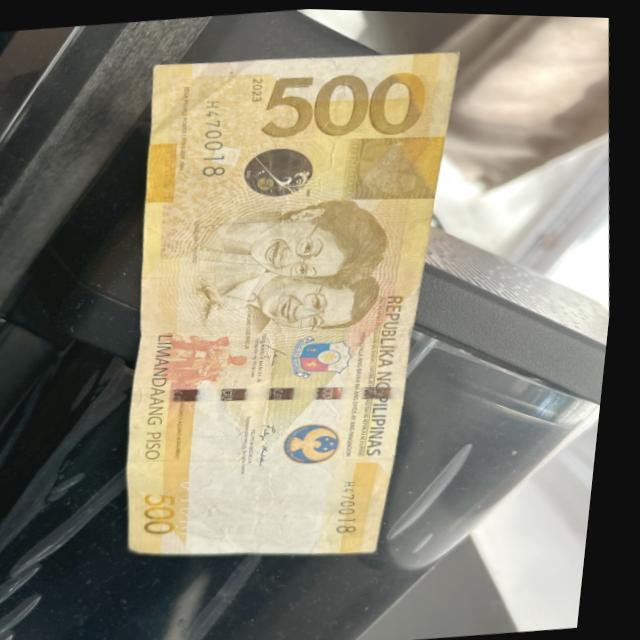concealed_value: (340, 129, 446, 204)
optically_variable_device: (236, 140, 327, 201)
